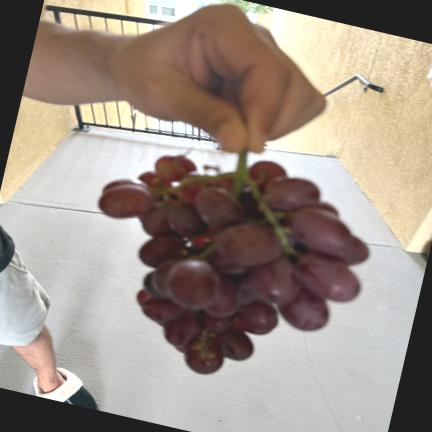grape_cluster: (99, 154, 368, 374)
